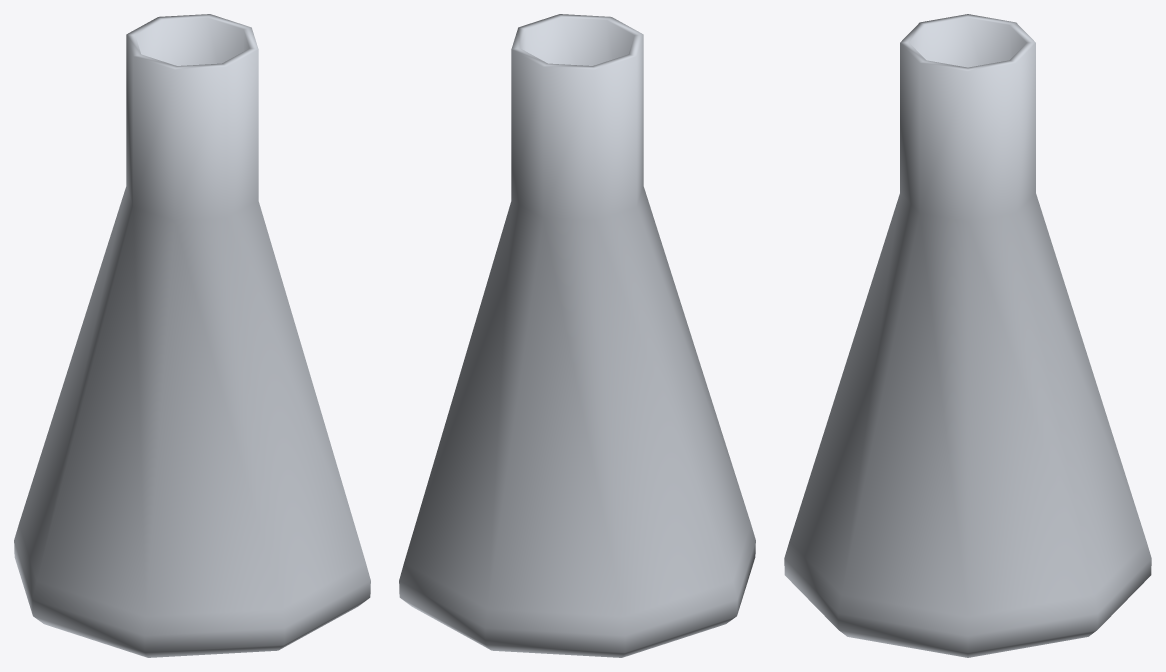
File: bottle_glassware_erlenmeyer_flask_large.glb
3 renders of one model, left to right at view 1: azimuth 30°, elevation 25°; view 2: azimuth 150°, elevation 25°; view 3: azimuth 270°, elevation 25°, orthographic.
Visible parts, largest first — view 1: bottle_glassware_erlenmeyer_flask_large; view 2: bottle_glassware_erlenmeyer_flask_large; view 3: bottle_glassware_erlenmeyer_flask_large.
Boxes of the visible parts, x1,y1,x2,y2 form: bottle_glassware_erlenmeyer_flask_large: (14, 14, 370, 657); bottle_glassware_erlenmeyer_flask_large: (399, 14, 755, 657); bottle_glassware_erlenmeyer_flask_large: (784, 14, 1151, 657).
Size of the model in its own units: 0.3299 by 0.54 by 0.3299.
1 material, 1 textured.
